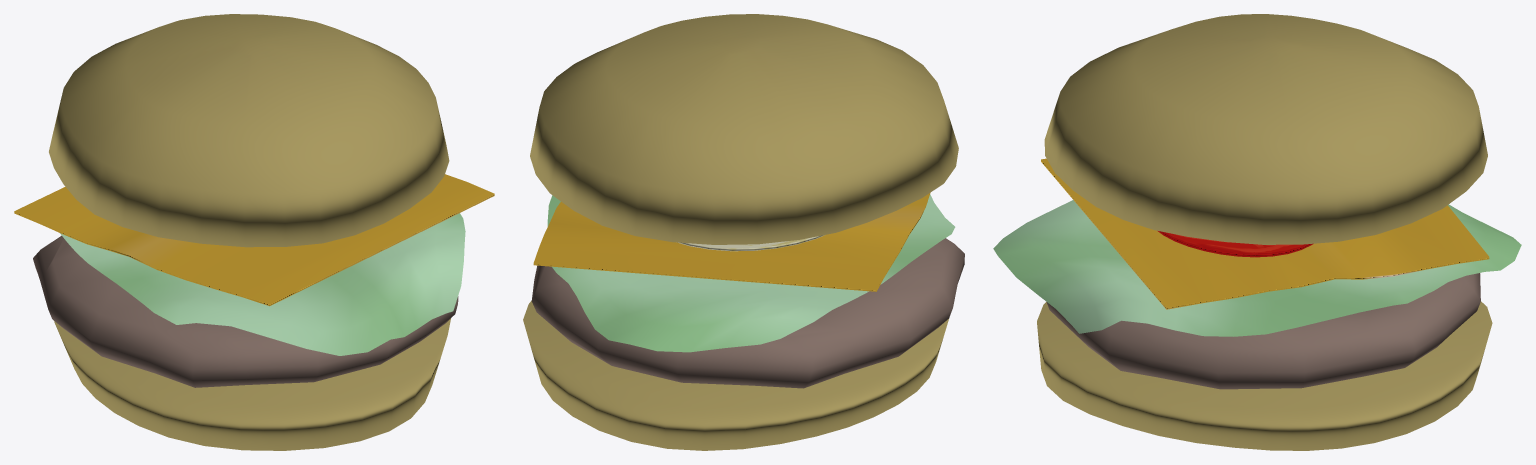
Rendered from burger.gltf.
The picture shows the model from 3 angles, left to right: view 1: azimuth 30°, elevation 25°; view 2: azimuth 150°, elevation 25°; view 3: azimuth 270°, elevation 25°; orthographic projection. The views are drawn at different scales.
Parts seen in each view (by area): view 1: Cylinder.010, Cylinder.009, Plane.003, Cube.056, Cube.058; view 2: Cylinder.010, Cylinder.009, Cube.056, Plane.003, Cube.058, Cylinder.012; view 3: Cylinder.010, Cylinder.009, Plane.003, Cube.056, Cube.058, Cylinder.013.
Part boxes in pixels (x1,y1,x2,y2): Cylinder.010: (49, 14, 449, 247); Cylinder.009: (54, 318, 450, 450); Plane.003: (60, 213, 465, 355); Cube.056: (33, 235, 458, 387); Cube.058: (14, 174, 494, 306); Cylinder.010: (530, 14, 958, 244); Cylinder.009: (523, 301, 948, 450); Cube.056: (531, 238, 964, 388); Plane.003: (547, 194, 955, 352); Cube.058: (533, 192, 930, 291); Cylinder.012: (678, 235, 824, 251); Cylinder.010: (1044, 14, 1487, 244); Cylinder.009: (1037, 301, 1492, 450); Plane.003: (993, 200, 1521, 336); Cube.056: (1046, 273, 1480, 389); Cube.058: (1041, 158, 1489, 309); Cylinder.013: (1158, 231, 1313, 257).
Size of the model in its own units: 2.1 by 1.68 by 2.45.
Materials: 3 (2 with a texture image).
